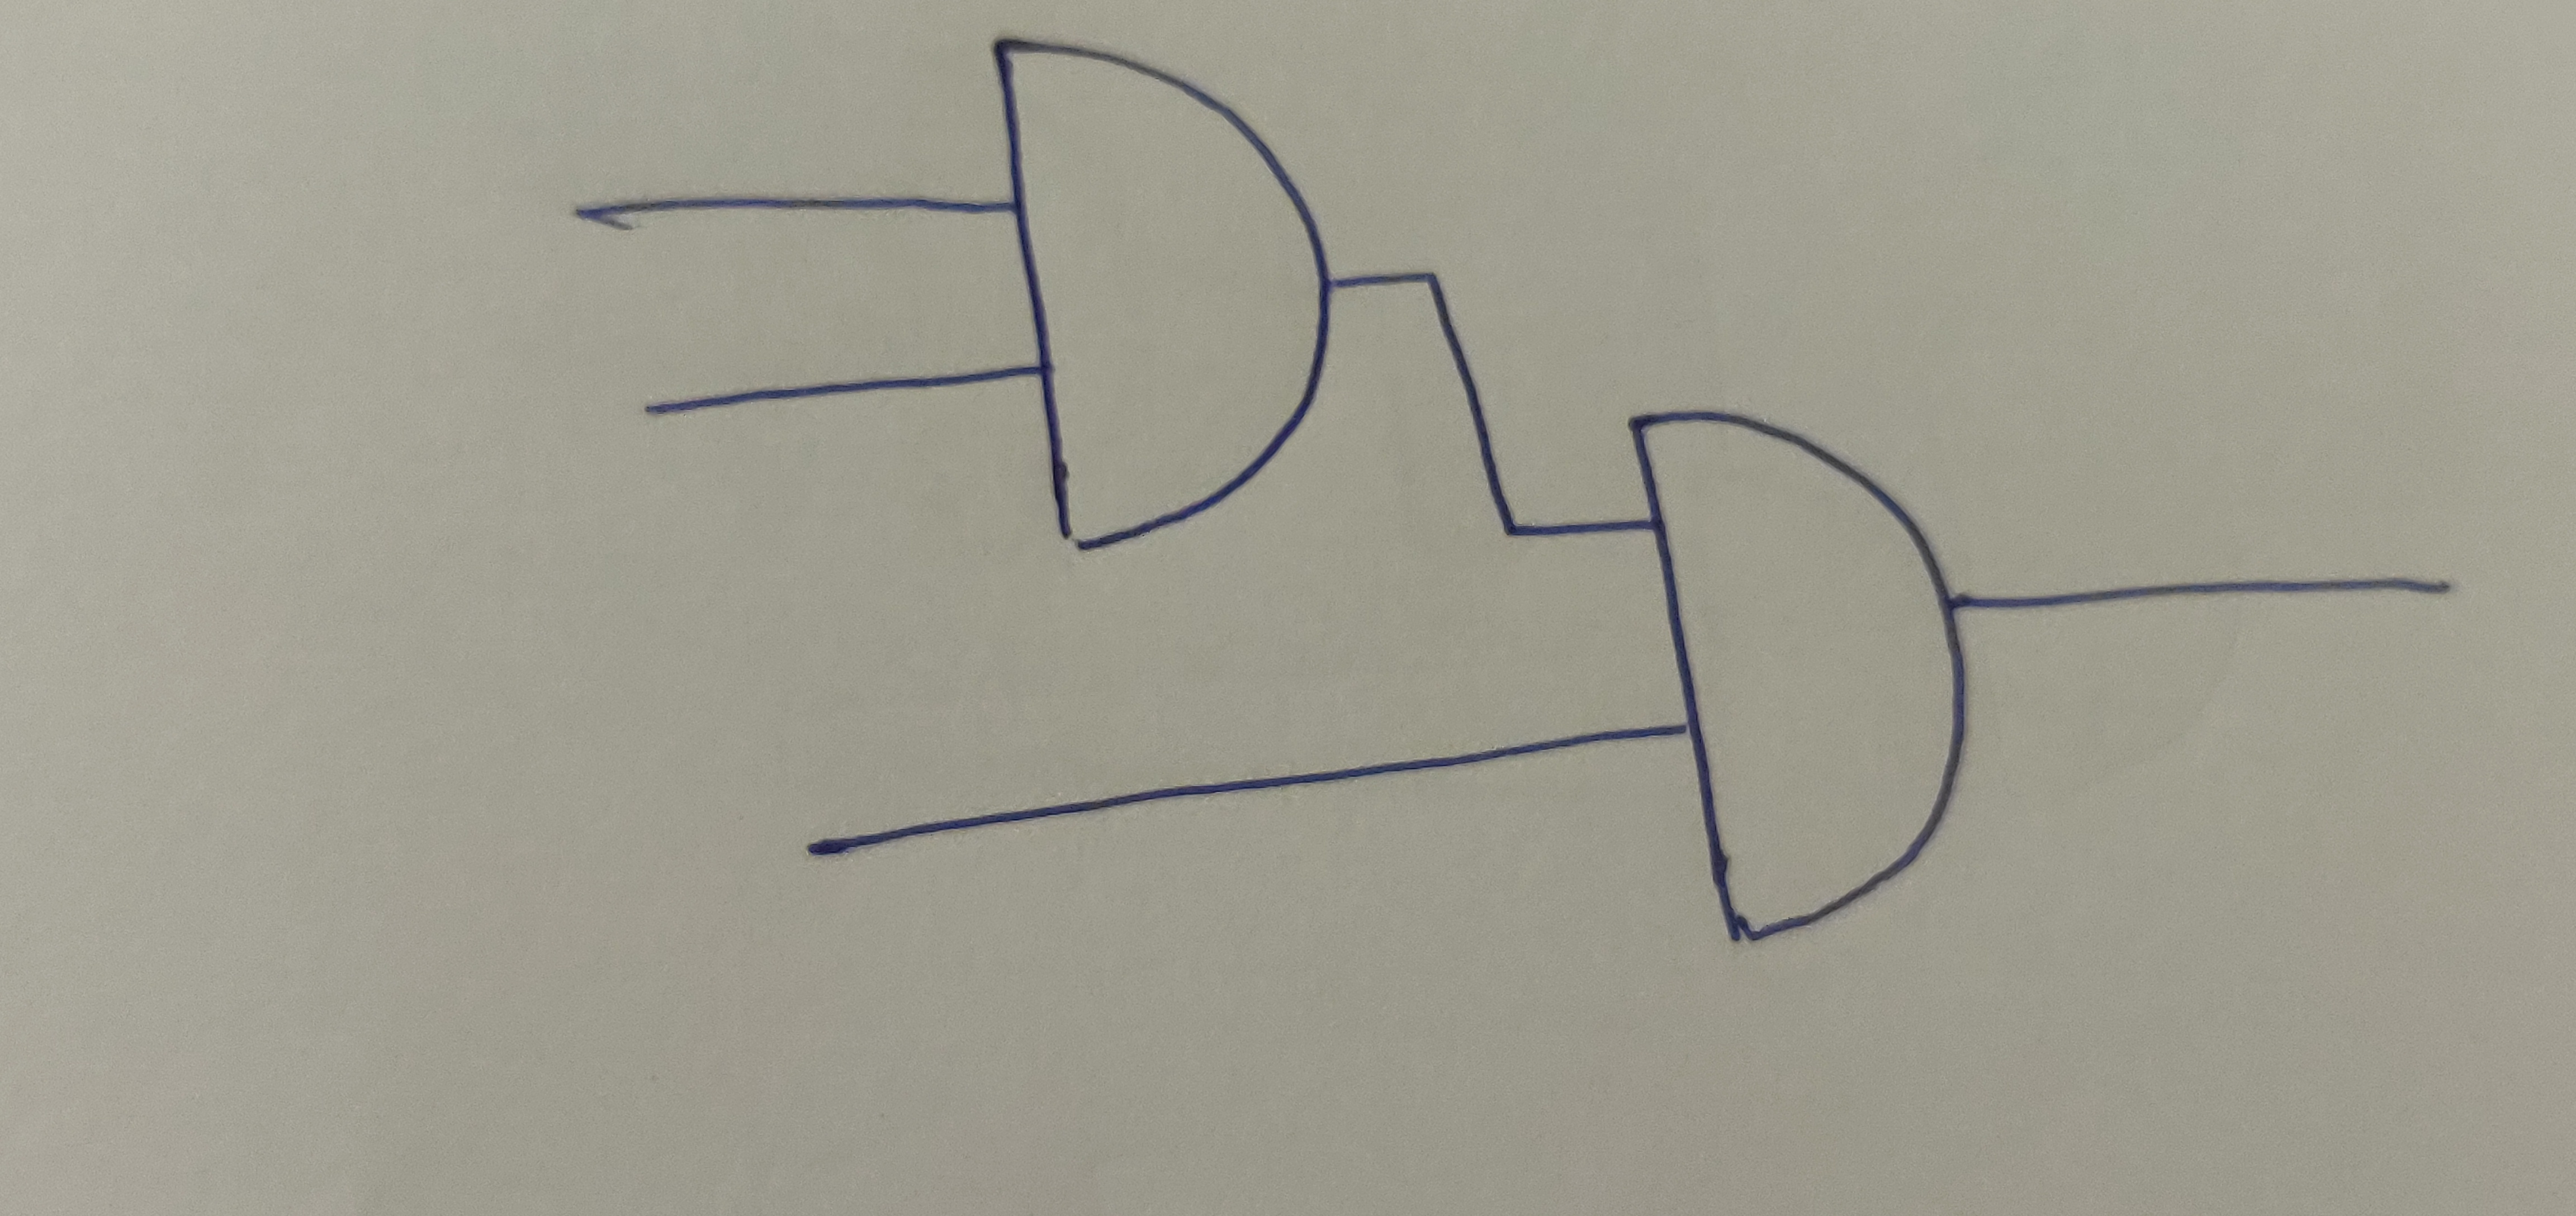and: (1625, 401, 1973, 945), (991, 26, 1334, 550)
